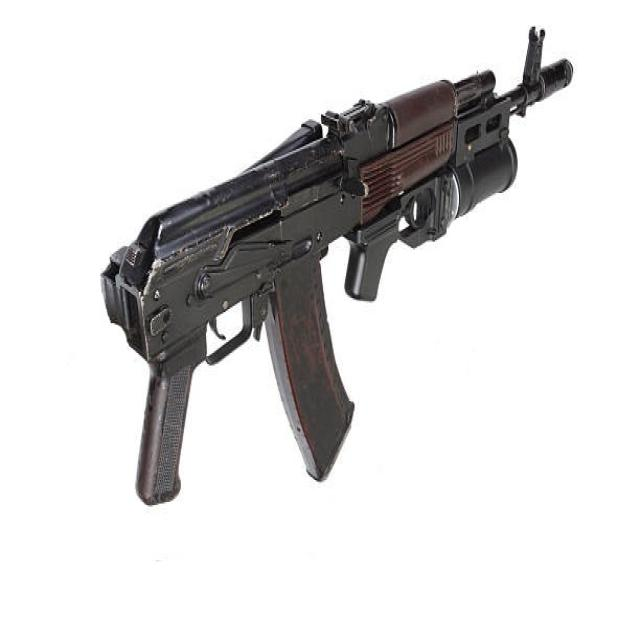rifle: (100, 29, 585, 536)
